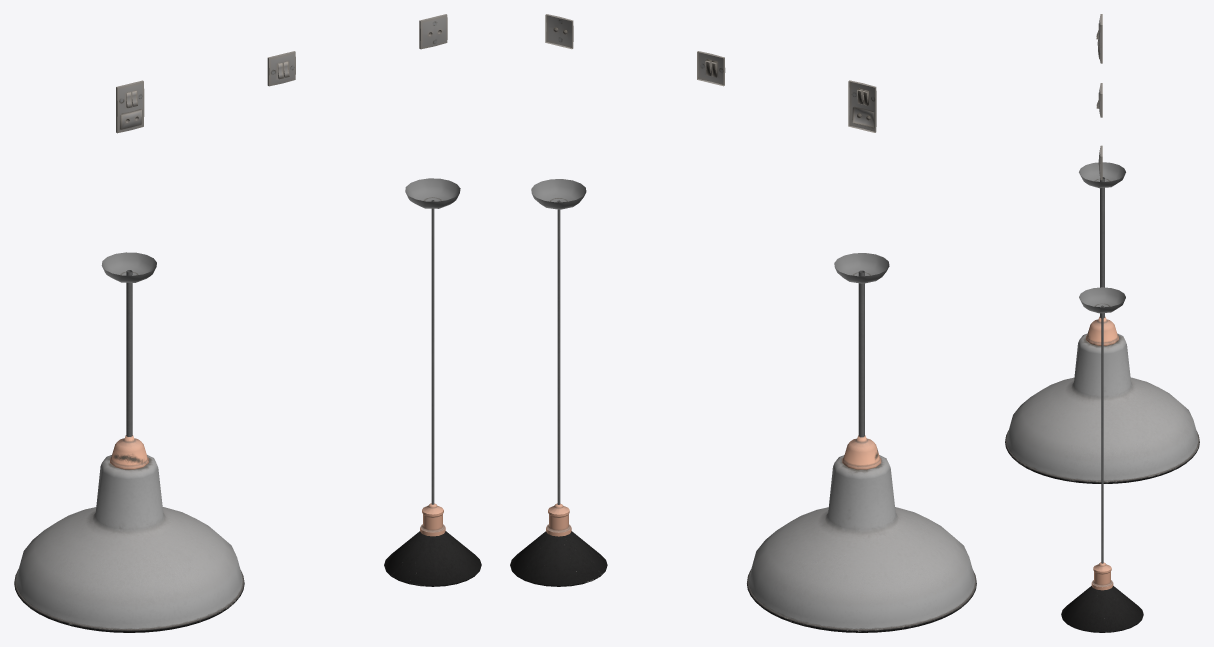
Rendered from cafeteria lamp.fbx.
3 renders of one model, left to right at view 1: azimuth 30°, elevation 25°; view 2: azimuth 150°, elevation 25°; view 3: azimuth 270°, elevation 25°, orthographic. The views are drawn at different scales.
Visible parts, largest first — view 1: Lamp_Kitchen_A, Lamp_Kitchen_B, Powerplug_A, Powerplug_B, Powerplug_C; view 2: Lamp_Kitchen_A, Lamp_Kitchen_B, Powerplug_A, Powerplug_C, Powerplug_B; view 3: Lamp_Kitchen_A, Lamp_Kitchen_B.
Boxes of the visible parts, x1=… form: Lamp_Kitchen_A: x1=14, y1=252, x2=244, y2=632; Lamp_Kitchen_B: x1=384, y1=178, x2=481, y2=586; Powerplug_A: x1=116, y1=80, x2=144, y2=133; Powerplug_B: x1=267, y1=51, x2=295, y2=86; Powerplug_C: x1=419, y1=14, x2=447, y2=49; Lamp_Kitchen_A: x1=747, y1=253, x2=976, y2=632; Lamp_Kitchen_B: x1=510, y1=179, x2=607, y2=586; Powerplug_A: x1=848, y1=80, x2=876, y2=132; Powerplug_C: x1=545, y1=14, x2=573, y2=49; Powerplug_B: x1=697, y1=51, x2=725, y2=86; Lamp_Kitchen_A: x1=1005, y1=162, x2=1199, y2=483; Lamp_Kitchen_B: x1=1061, y1=287, x2=1143, y2=632.
Bounding box in the file's own units: 147 × 175 × 65.78.
